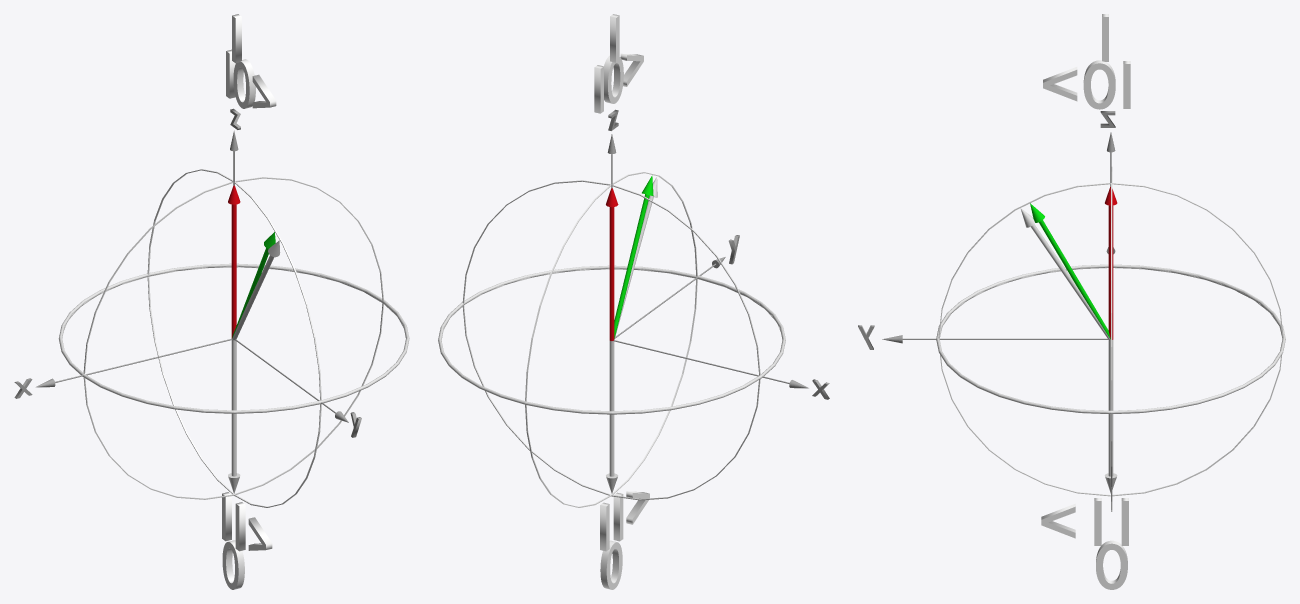
The picture shows the model from 3 angles, left to right: view 1: azimuth 30°, elevation 25°; view 2: azimuth 150°, elevation 25°; view 3: azimuth 270°, elevation 25°; orthographic projection.
Visible parts, largest first — view 1: circleTheta.001, circleThetaPhi, circleTheta, |0>, |1>, BlankArrow.001, calssicalBitArrow, 0, quantumBitArrow; view 2: circleTheta.001, circleThetaPhi, circleTheta, |0>, |1>, calssicalBitArrow, BlankArrow.001, quantumBitArrow.001, 0, quantumBitArrow; view 3: circleTheta.001, circleTheta, |0>, |1>, 0, quantumBitArrow.001, calssicalBitArrow, BlankArrow.001, quantumBitArrow, circleThetaPhi.
Part boxes in pixels (bbox=[...]): circleTheta.001: bbox=[58, 263, 409, 413]; circleThetaPhi: bbox=[83, 177, 383, 499]; circleTheta: bbox=[147, 169, 321, 507]; |0>: bbox=[226, 49, 276, 108]; |1>: bbox=[222, 492, 272, 551]; BlankArrow.001: bbox=[228, 340, 240, 493]; calssicalBitArrow: bbox=[228, 185, 240, 338]; 0: bbox=[222, 540, 244, 589]; quantumBitArrow: bbox=[232, 240, 280, 340]; circleTheta.001: bbox=[438, 265, 785, 414]; circleThetaPhi: bbox=[462, 180, 760, 500]; circleTheta: bbox=[525, 172, 697, 507]; |0>: bbox=[594, 53, 643, 113]; |1>: bbox=[600, 491, 649, 551]; calssicalBitArrow: bbox=[606, 188, 618, 340]; BlankArrow.001: bbox=[606, 341, 618, 493]; quantumBitArrow.001: bbox=[614, 175, 653, 338]; 0: bbox=[600, 540, 622, 589]; quantumBitArrow: bbox=[614, 177, 657, 339]; circleTheta.001: bbox=[936, 264, 1285, 414]; circleTheta: bbox=[938, 183, 1283, 496]; |0>: bbox=[1043, 60, 1130, 109]; |1>: bbox=[1041, 498, 1128, 545]; 0: bbox=[1096, 540, 1127, 589]; quantumBitArrow.001: bbox=[1030, 203, 1110, 339]; calssicalBitArrow: bbox=[1105, 186, 1117, 339]; BlankArrow.001: bbox=[1104, 340, 1117, 493]; quantumBitArrow: bbox=[1020, 208, 1110, 340]; circleThetaPhi: bbox=[1111, 167, 1112, 511].
Size of the model in its own units: 246 by 364 by 247.
